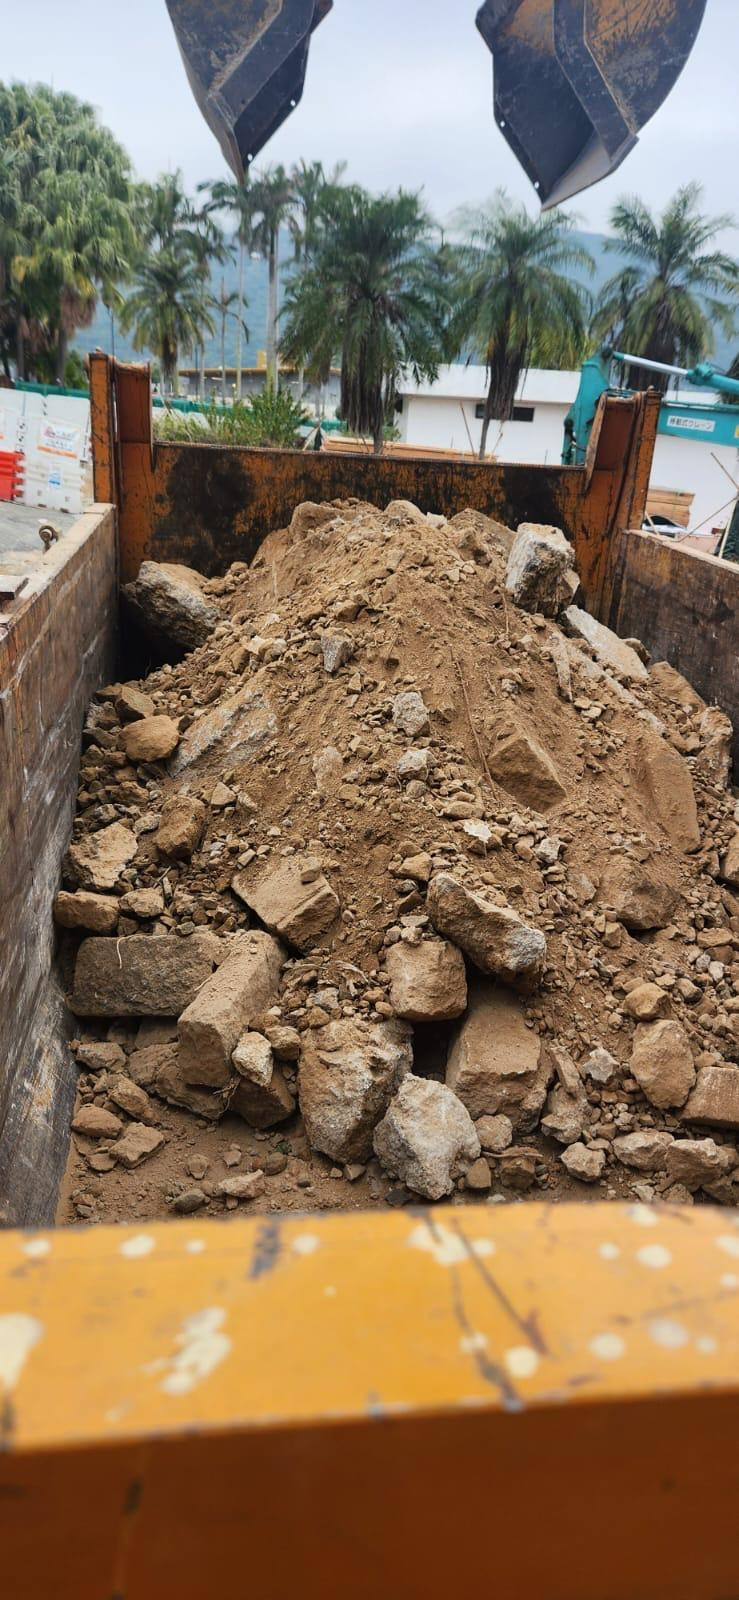dry: (60, 510, 739, 1220)
